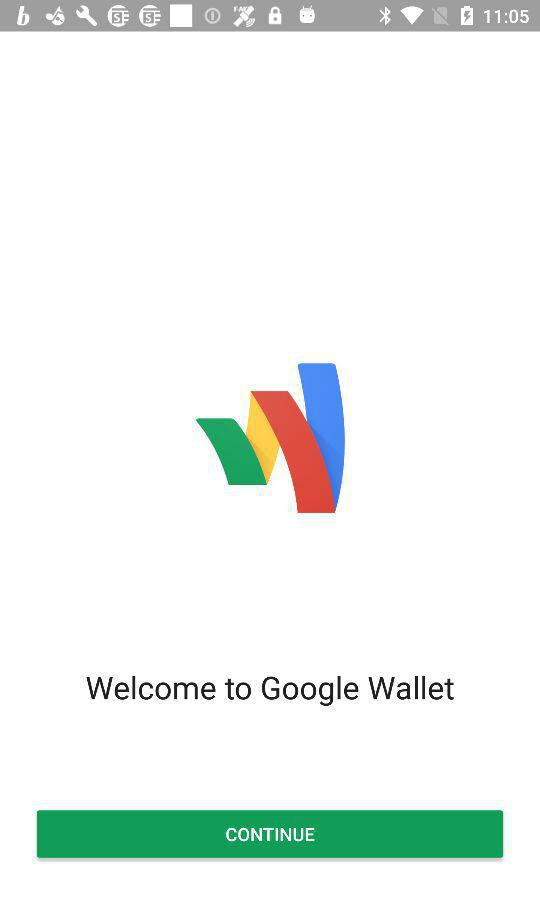Image: (195, 363, 346, 515)
Text: (86, 675, 456, 708)
TextButton: (37, 810, 504, 859)
UpperTaskBar: (1, 1, 540, 33)
